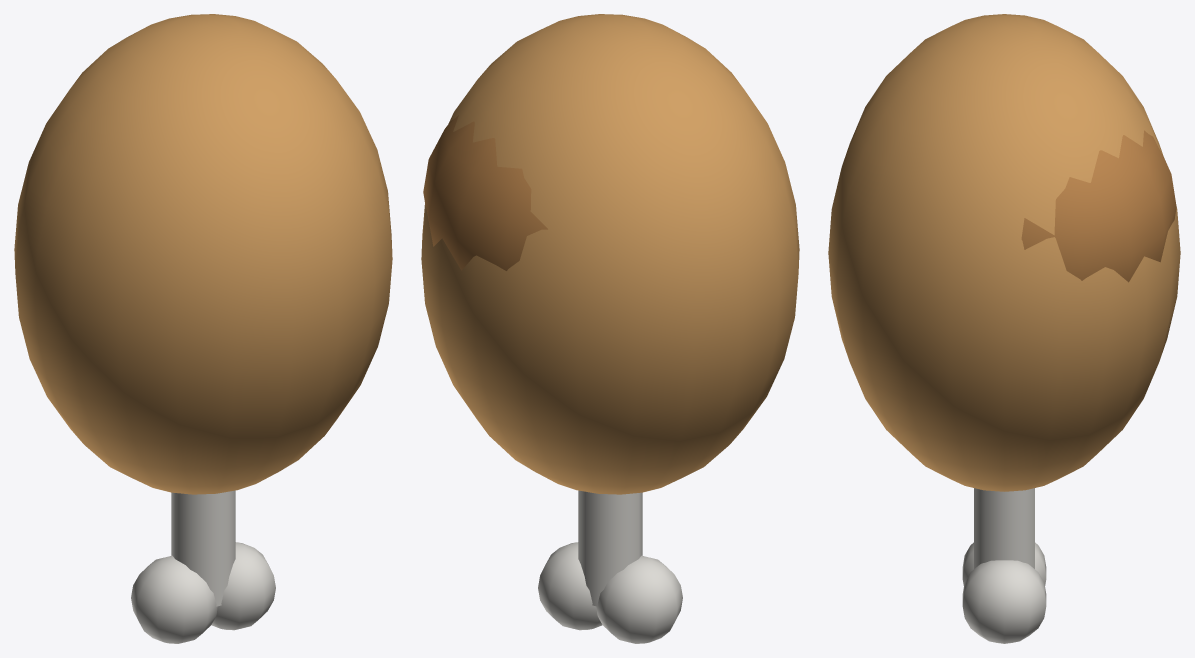
File: muslos_pollo.glb
3 views of the same model, side by side, from view 1: azimuth 30°, elevation 25°; view 2: azimuth 150°, elevation 25°; view 3: azimuth 270°, elevation 25° (orthographic).
Visible parts, largest first — view 1: MuslosPollo; view 2: MuslosPollo; view 3: MuslosPollo.
Boxes of the visible parts, <box> form: MuslosPollo: <box>14,14,392,643</box>; MuslosPollo: <box>421,14,799,643</box>; MuslosPollo: <box>828,14,1180,643</box>.
Size of the model in its own units: 0.96 by 1.65 by 0.88.
